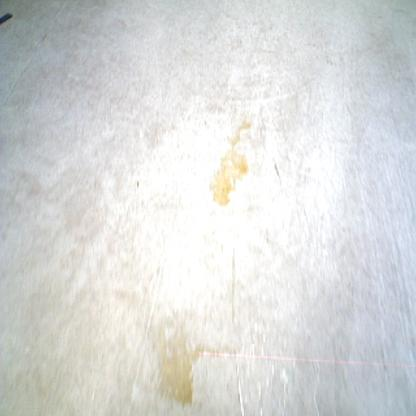liquid: (234, 359, 320, 416), (144, 310, 194, 406), (207, 148, 248, 204), (193, 340, 244, 358), (228, 116, 250, 147)
mark: (40, 31, 50, 44), (274, 161, 280, 177), (136, 179, 140, 188)
